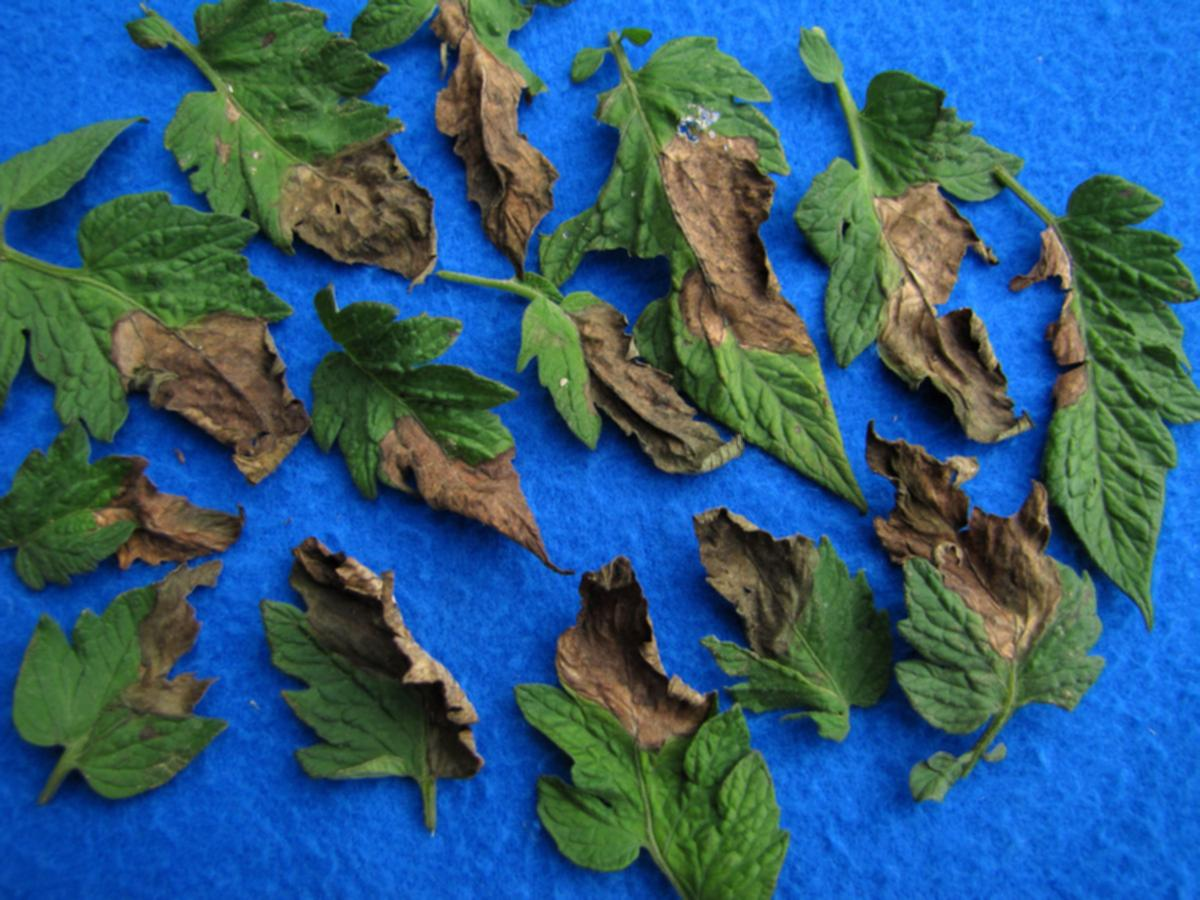Tomato leaf late blight: (608, 38, 850, 491), (519, 563, 802, 899), (855, 424, 1105, 796), (803, 36, 1026, 451), (137, 7, 440, 277), (1018, 158, 1196, 606), (256, 529, 497, 810), (297, 296, 548, 539), (660, 502, 923, 727), (475, 279, 747, 483), (15, 557, 224, 821), (0, 447, 251, 577)
